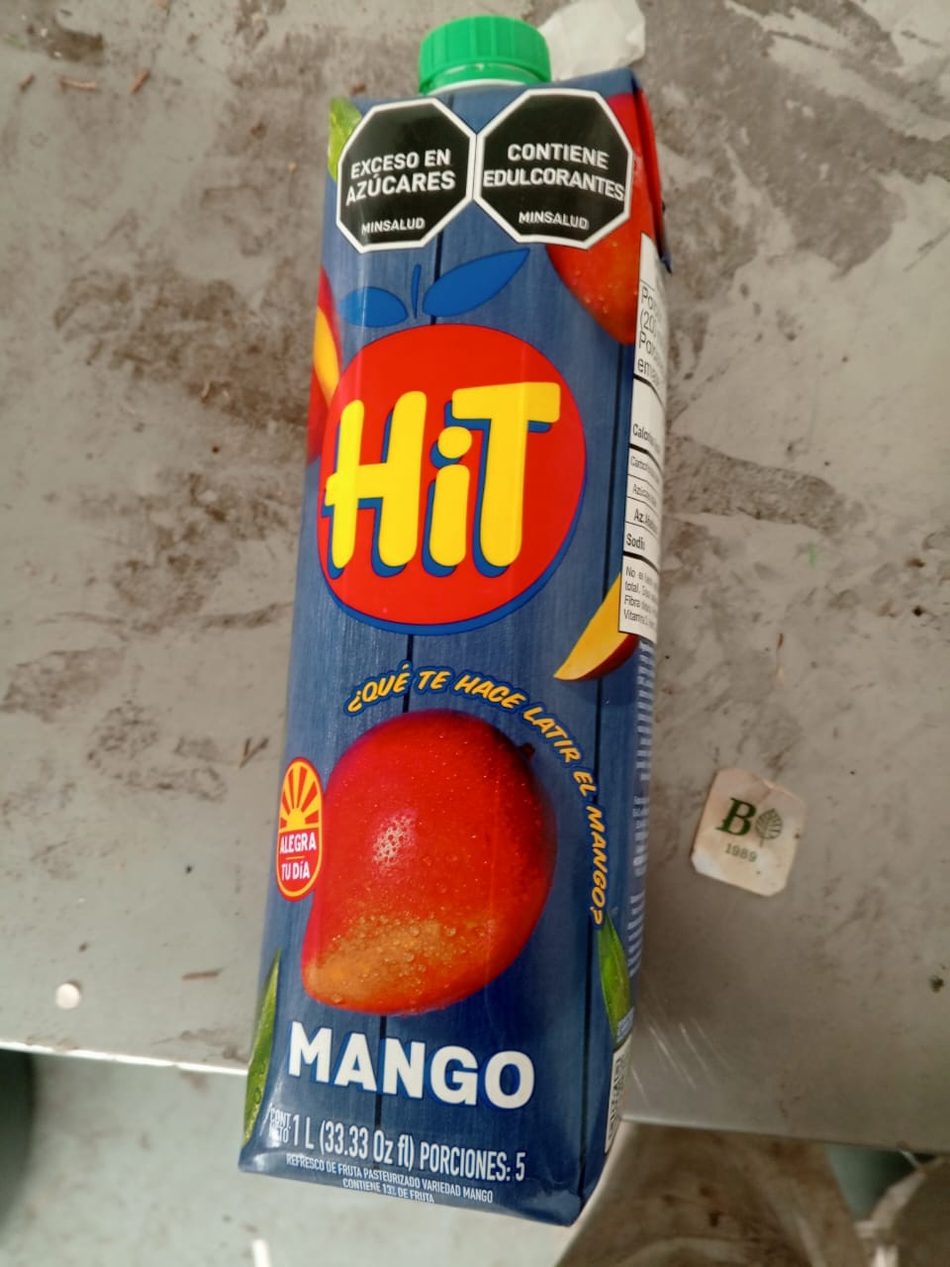Carton: (237, 72, 677, 1223)
